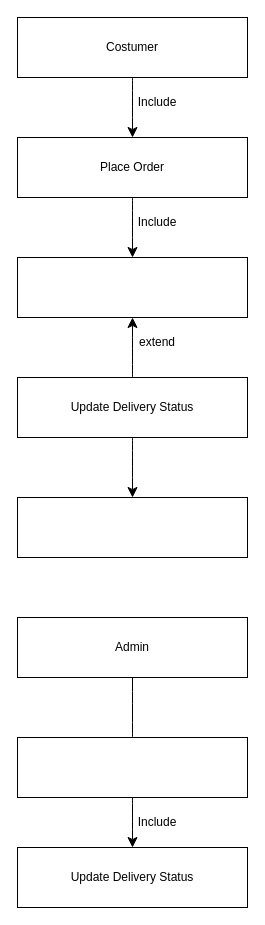
This 265x925 diagram has some shape labels left out. The centre of each missing label's shape, as x and y in pixels:
"Delivery Staff" belongs at (132,527).
"Generate Delivery Note" belongs at (132,287).
"Manage Orders" belongs at (132,767).
